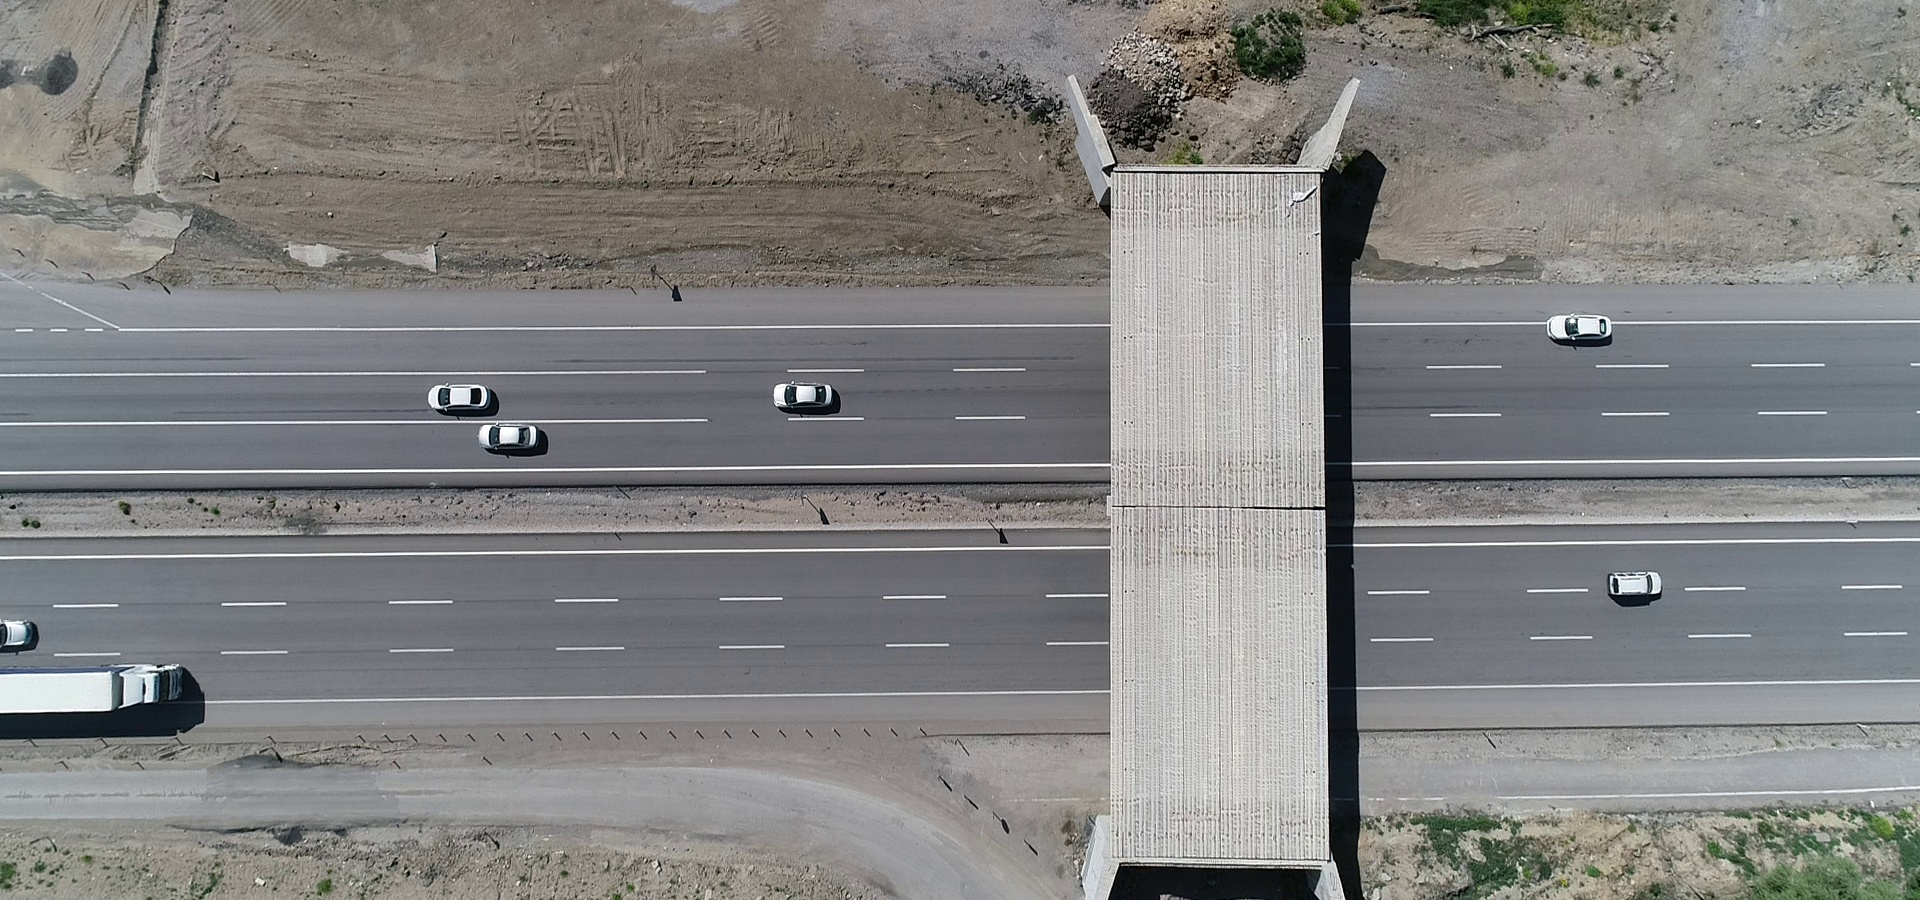arac: (1, 658, 207, 720), (476, 415, 549, 458), (419, 381, 507, 415), (1542, 310, 1622, 345), (1610, 562, 1671, 604), (773, 380, 850, 411), (1, 609, 48, 645)
